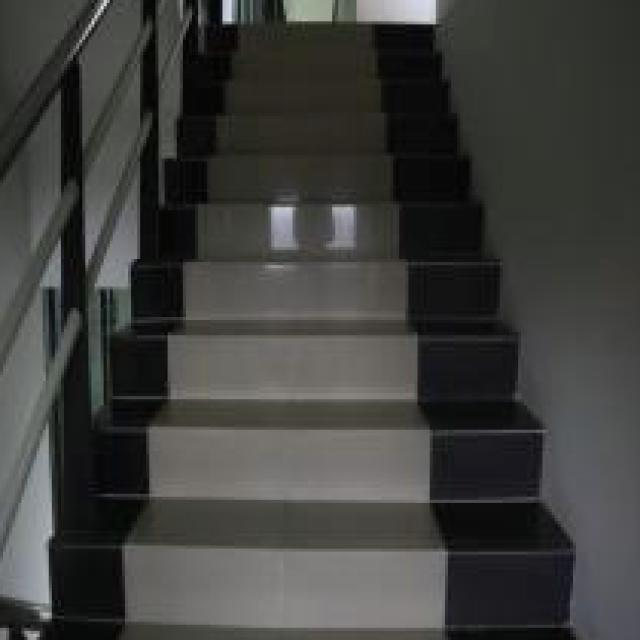upstair: (166, 163, 471, 589)
